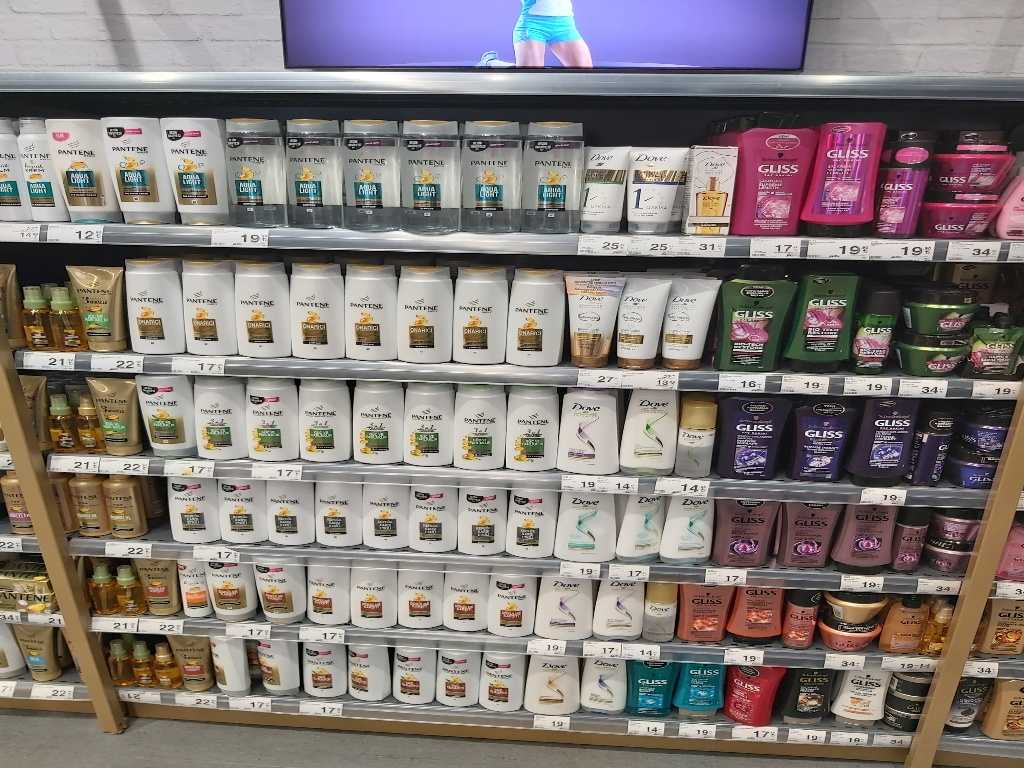urun: (810, 115, 884, 239), (736, 120, 808, 234), (719, 266, 799, 365), (335, 111, 401, 229), (113, 110, 177, 230), (278, 114, 343, 232), (397, 111, 462, 229), (457, 114, 522, 232), (520, 114, 585, 232), (55, 115, 122, 227), (787, 266, 855, 370), (220, 115, 285, 223), (166, 111, 223, 225), (881, 118, 934, 239), (123, 256, 187, 355), (229, 257, 291, 357), (285, 261, 347, 361), (340, 262, 402, 362), (449, 268, 511, 367), (178, 256, 239, 356), (393, 262, 454, 362), (506, 265, 567, 365), (721, 390, 786, 483), (791, 390, 856, 483), (850, 397, 915, 489), (622, 145, 691, 230), (562, 268, 623, 364), (709, 492, 781, 570), (552, 485, 620, 567), (67, 260, 124, 355), (243, 375, 301, 463), (294, 375, 352, 463), (399, 379, 457, 467), (449, 379, 507, 467), (504, 384, 562, 472), (558, 384, 616, 472), (681, 140, 737, 230), (347, 379, 404, 467), (620, 384, 677, 472), (835, 502, 900, 577), (259, 471, 319, 552), (664, 275, 719, 360), (502, 484, 559, 566), (622, 274, 673, 364), (776, 495, 836, 571), (212, 471, 270, 548), (530, 572, 595, 640), (580, 138, 628, 227), (308, 477, 366, 550), (356, 484, 413, 557), (657, 488, 714, 561), (91, 376, 142, 457), (140, 375, 191, 456), (192, 372, 243, 453), (164, 475, 223, 545), (896, 296, 982, 344), (932, 151, 1019, 198), (522, 646, 582, 713), (439, 567, 493, 641), (403, 486, 461, 553), (924, 197, 1010, 242), (454, 493, 512, 559), (255, 556, 310, 625), (672, 394, 718, 476), (248, 631, 300, 703), (625, 658, 680, 726), (348, 559, 402, 628), (723, 585, 781, 648), (396, 564, 448, 634), (486, 570, 540, 637), (97, 472, 150, 540), (822, 581, 897, 628), (616, 489, 662, 564), (306, 558, 355, 627), (723, 663, 780, 722), (829, 671, 886, 730), (778, 666, 835, 724), (677, 582, 733, 640), (850, 300, 897, 369), (591, 577, 645, 637), (209, 557, 259, 621), (298, 640, 347, 705), (344, 639, 393, 704), (434, 649, 483, 714), (475, 649, 524, 714), (388, 641, 436, 707), (676, 662, 727, 723), (579, 659, 628, 722), (134, 552, 180, 618), (900, 340, 975, 379), (927, 504, 993, 548), (65, 472, 108, 539), (211, 630, 251, 699), (639, 579, 681, 644), (172, 628, 211, 698), (15, 276, 50, 348), (41, 278, 76, 349), (819, 622, 891, 655), (975, 324, 1021, 374), (782, 588, 819, 648), (178, 553, 211, 620), (78, 550, 110, 617), (108, 552, 140, 618), (97, 630, 127, 691), (125, 630, 155, 691), (147, 630, 177, 691), (925, 538, 968, 576)
urun2: (17, 111, 60, 219)
